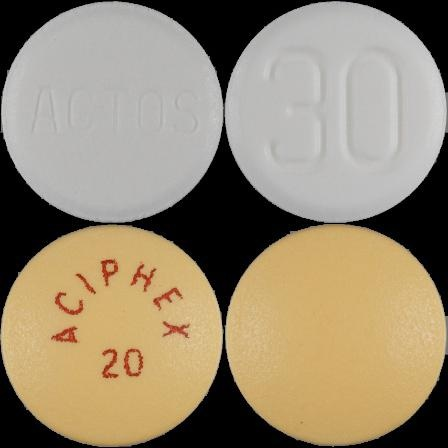68151-3798: (0, 0, 224, 224)
